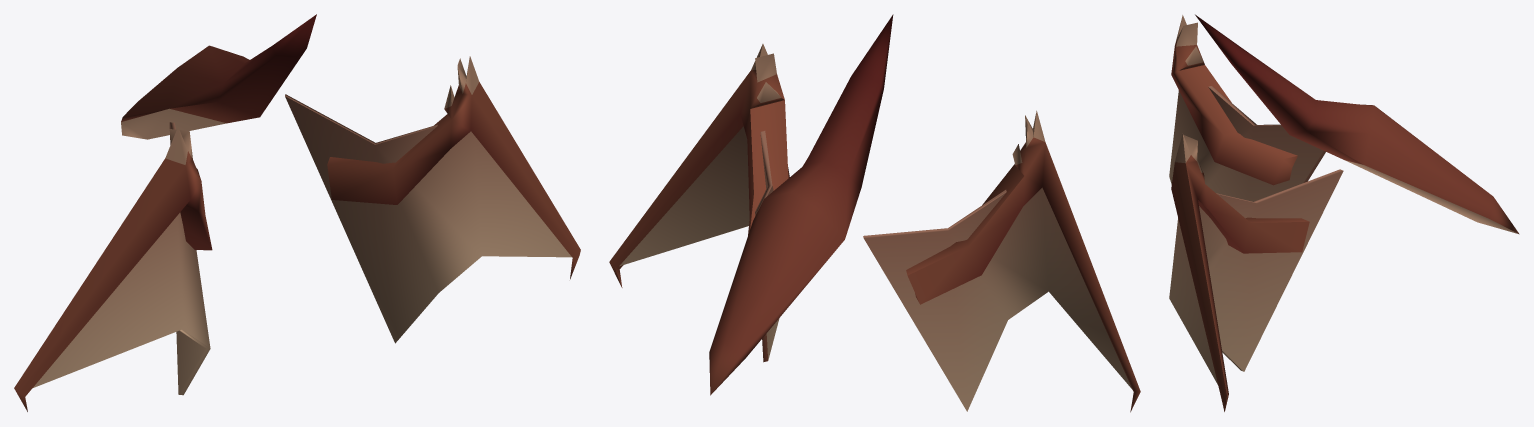
Rendered from hat_premium_DinoWings.glb.
3 renders of one model, left to right at view 1: azimuth 30°, elevation 25°; view 2: azimuth 150°, elevation 25°; view 3: azimuth 270°, elevation 25°, orthographic. The views are drawn at different scales.
Visible parts, largest first — view 1: hat_premium_DinoWings; view 2: hat_premium_DinoWings; view 3: hat_premium_DinoWings.
Part boxes in pixels (x1,y1,x2,y2): hat_premium_DinoWings: (14, 14, 580, 411); hat_premium_DinoWings: (609, 14, 1140, 412); hat_premium_DinoWings: (1169, 14, 1519, 411).
Bounding box in the file's own units: 0.977 × 0.6194 × 0.6273.
